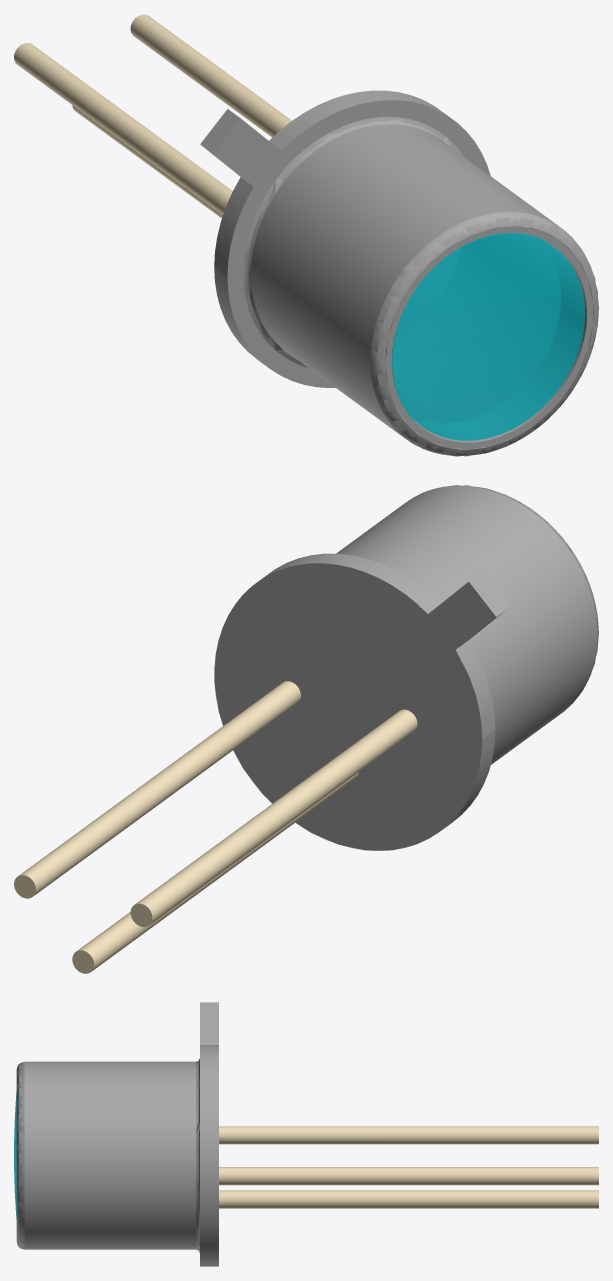
The model's file is TO-18-3_Window.glb.
The picture shows the model from 3 angles, top to bottom: view 1: azimuth 30°, elevation 25°; view 2: azimuth 150°, elevation 25°; view 3: azimuth 270°, elevation 25°; orthographic projection. The views are drawn at different scales.
Visible parts, largest first — view 1: Shape_IndexedFaceSet.004, Shape_IndexedFaceSet.022, Shape_IndexedFaceSet, Shape_IndexedFaceSet.024, Shape_IndexedFaceSet.006, Shape_IndexedFaceSet.003, Shape_IndexedFaceSet.016, Shape_IndexedFaceSet.023, Shape_IndexedFaceSet.017, Shape_IndexedFaceSet.001, Shape_IndexedFaceSet.005, Shape_IndexedFaceSet.009 (+5 smaller); view 2: Shape_IndexedFaceSet.010, Shape_IndexedFaceSet.004, Shape_IndexedFaceSet.017, Shape_IndexedFaceSet.016, Shape_IndexedFaceSet.014, Shape_IndexedFaceSet.009, Shape_IndexedFaceSet.015, Shape_IndexedFaceSet.018, Shape_IndexedFaceSet.007, Shape_IndexedFaceSet.013; view 3: Shape_IndexedFaceSet.004, Shape_IndexedFaceSet.015, Shape_IndexedFaceSet.016, Shape_IndexedFaceSet.017, Shape_IndexedFaceSet.009, Shape_IndexedFaceSet.003, Shape_IndexedFaceSet.012, Shape_IndexedFaceSet.005.
Part boxes in pixels (x1,y1,x2,y2): Shape_IndexedFaceSet.004: (251,124,593,449); Shape_IndexedFaceSet.022: (392,233,584,440); Shape_IndexedFaceSet: (385,226,586,442); Shape_IndexedFaceSet.024: (392,233,560,422); Shape_IndexedFaceSet.006: (227,100,490,387); Shape_IndexedFaceSet.003: (370,211,598,456); Shape_IndexedFaceSet.016: (14,43,232,214); Shape_IndexedFaceSet.023: (392,233,584,440); Shape_IndexedFaceSet.017: (130,14,291,137); Shape_IndexedFaceSet.001: (385,226,592,449); Shape_IndexedFaceSet.005: (243,117,462,367); Shape_IndexedFaceSet.009: (214,90,446,367); Shape_IndexedFaceSet.010: (214,563,482,850); Shape_IndexedFaceSet.004: (336,485,597,764); Shape_IndexedFaceSet.017: (19,681,300,895); Shape_IndexedFaceSet.016: (136,709,417,924); Shape_IndexedFaceSet.014: (334,614,455,724); Shape_IndexedFaceSet.009: (214,553,495,850); Shape_IndexedFaceSet.015: (77,772,358,970); Shape_IndexedFaceSet.018: (428,581,495,649); Shape_IndexedFaceSet.007: (456,640,495,739); Shape_IndexedFaceSet.013: (469,572,509,616); Shape_IndexedFaceSet.004: (24,1061,195,1249); Shape_IndexedFaceSet.015: (219,1190,598,1208); Shape_IndexedFaceSet.016: (219,1126,598,1144); Shape_IndexedFaceSet.017: (219,1167,598,1185); Shape_IndexedFaceSet.009: (200,1045,218,1266); Shape_IndexedFaceSet.003: (16,1062,24,1249); Shape_IndexedFaceSet.012: (200,1002,218,1044); Shape_IndexedFaceSet.005: (196,1058,199,1252).
Size of the model in its own units: 2.42 by 2.42 by 6.06.
